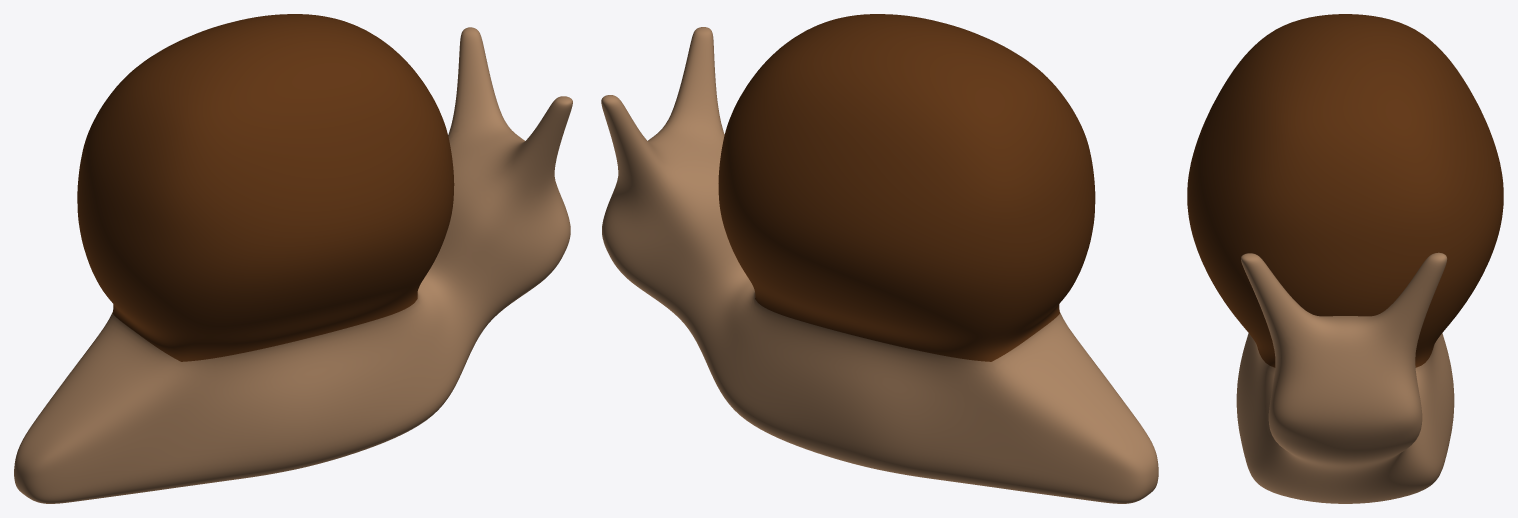
File: PdV_Model_Snail_Color.fbx
The picture shows the model from 3 angles, left to right: view 1: azimuth 30°, elevation 25°; view 2: azimuth 150°, elevation 25°; view 3: azimuth 270°, elevation 25°; orthographic projection.
Parts seen in each view (by area): view 1: Snail; view 2: Snail; view 3: Snail.
Part boxes in pixels (x1,y1,x2,y2): Snail: (14,14,572,503); Snail: (601,14,1158,503); Snail: (1187,14,1503,503).
Bounding box in the file's own units: 262 × 135 × 195.
